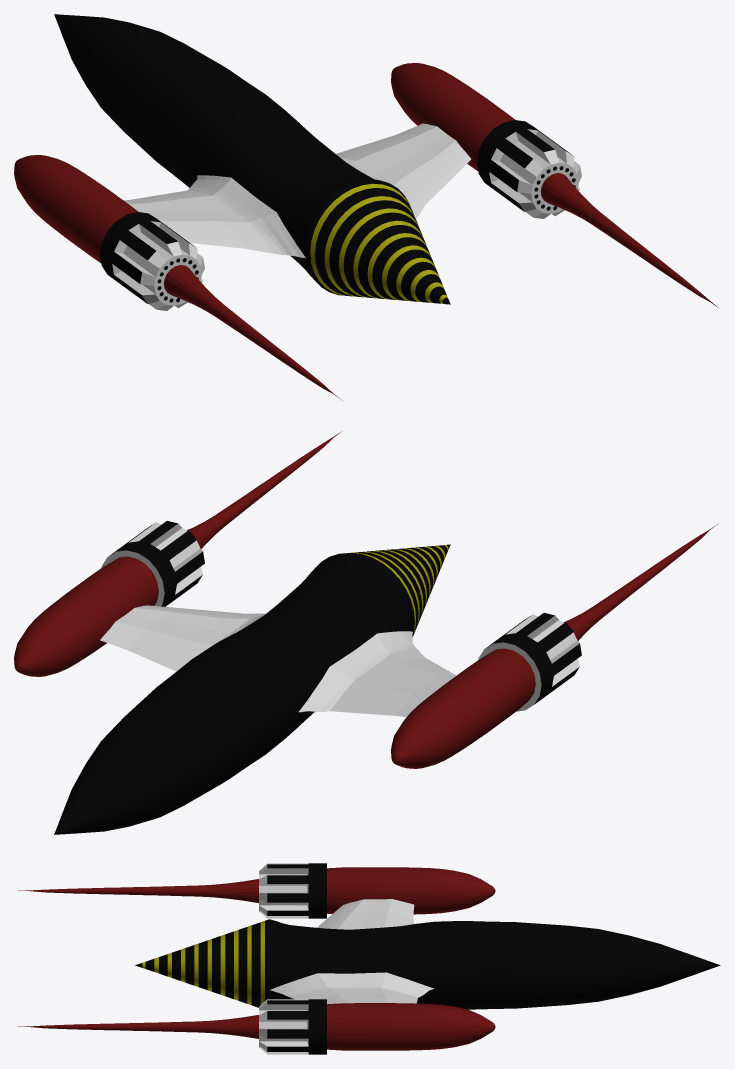
Rendered from Asteroid 1.FBX.
3 renders of one model, top to bottom at view 1: azimuth 30°, elevation 25°; view 2: azimuth 150°, elevation 25°; view 3: azimuth 270°, elevation 25°, orthographic. The views are drawn at different scales.
Visible parts, largest first — view 1: Object005, Object007, Object006, Object008; view 2: Object005, Object007, Object006, Object008; view 3: Object005, Object007, Object006, Object008.
Boxes of the visible parts, x1,y1,x2,y2 form: Object005: (54,14,581,310); Object007: (14,63,718,400); Object006: (124,123,471,258); Object008: (99,120,575,303); Object005: (54,522,579,834); Object007: (14,431,718,768); Object006: (100,605,456,716); Object008: (109,521,581,704); Object005: (135,863,720,1054); Object007: (17,867,495,1050); Object006: (270,899,433,1004); Object008: (267,863,326,1054).
Bounding box in the file's own units: 178 × 43.75 × 335.
